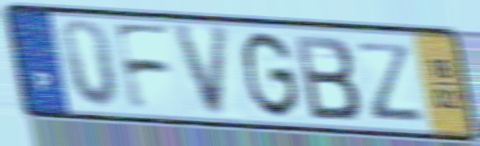0: (60, 17, 121, 113)
B: (291, 31, 364, 123)
F: (110, 20, 175, 115)
G: (241, 29, 303, 122)
V: (171, 24, 233, 120)
Z: (352, 38, 427, 124)
